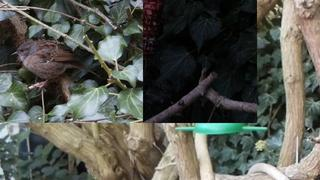dunnock: (11, 40, 103, 92)
